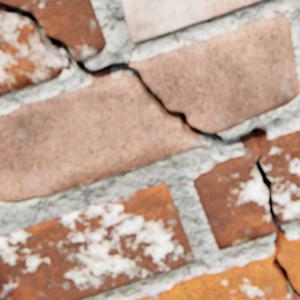brick: (0, 181, 194, 299), (122, 0, 261, 42)
broken_brick: (0, 77, 201, 201), (130, 13, 299, 131), (193, 149, 275, 248), (135, 248, 292, 299), (0, 0, 106, 59), (0, 16, 70, 95), (260, 129, 299, 222), (277, 235, 299, 291)
crack: (0, 2, 299, 299)
